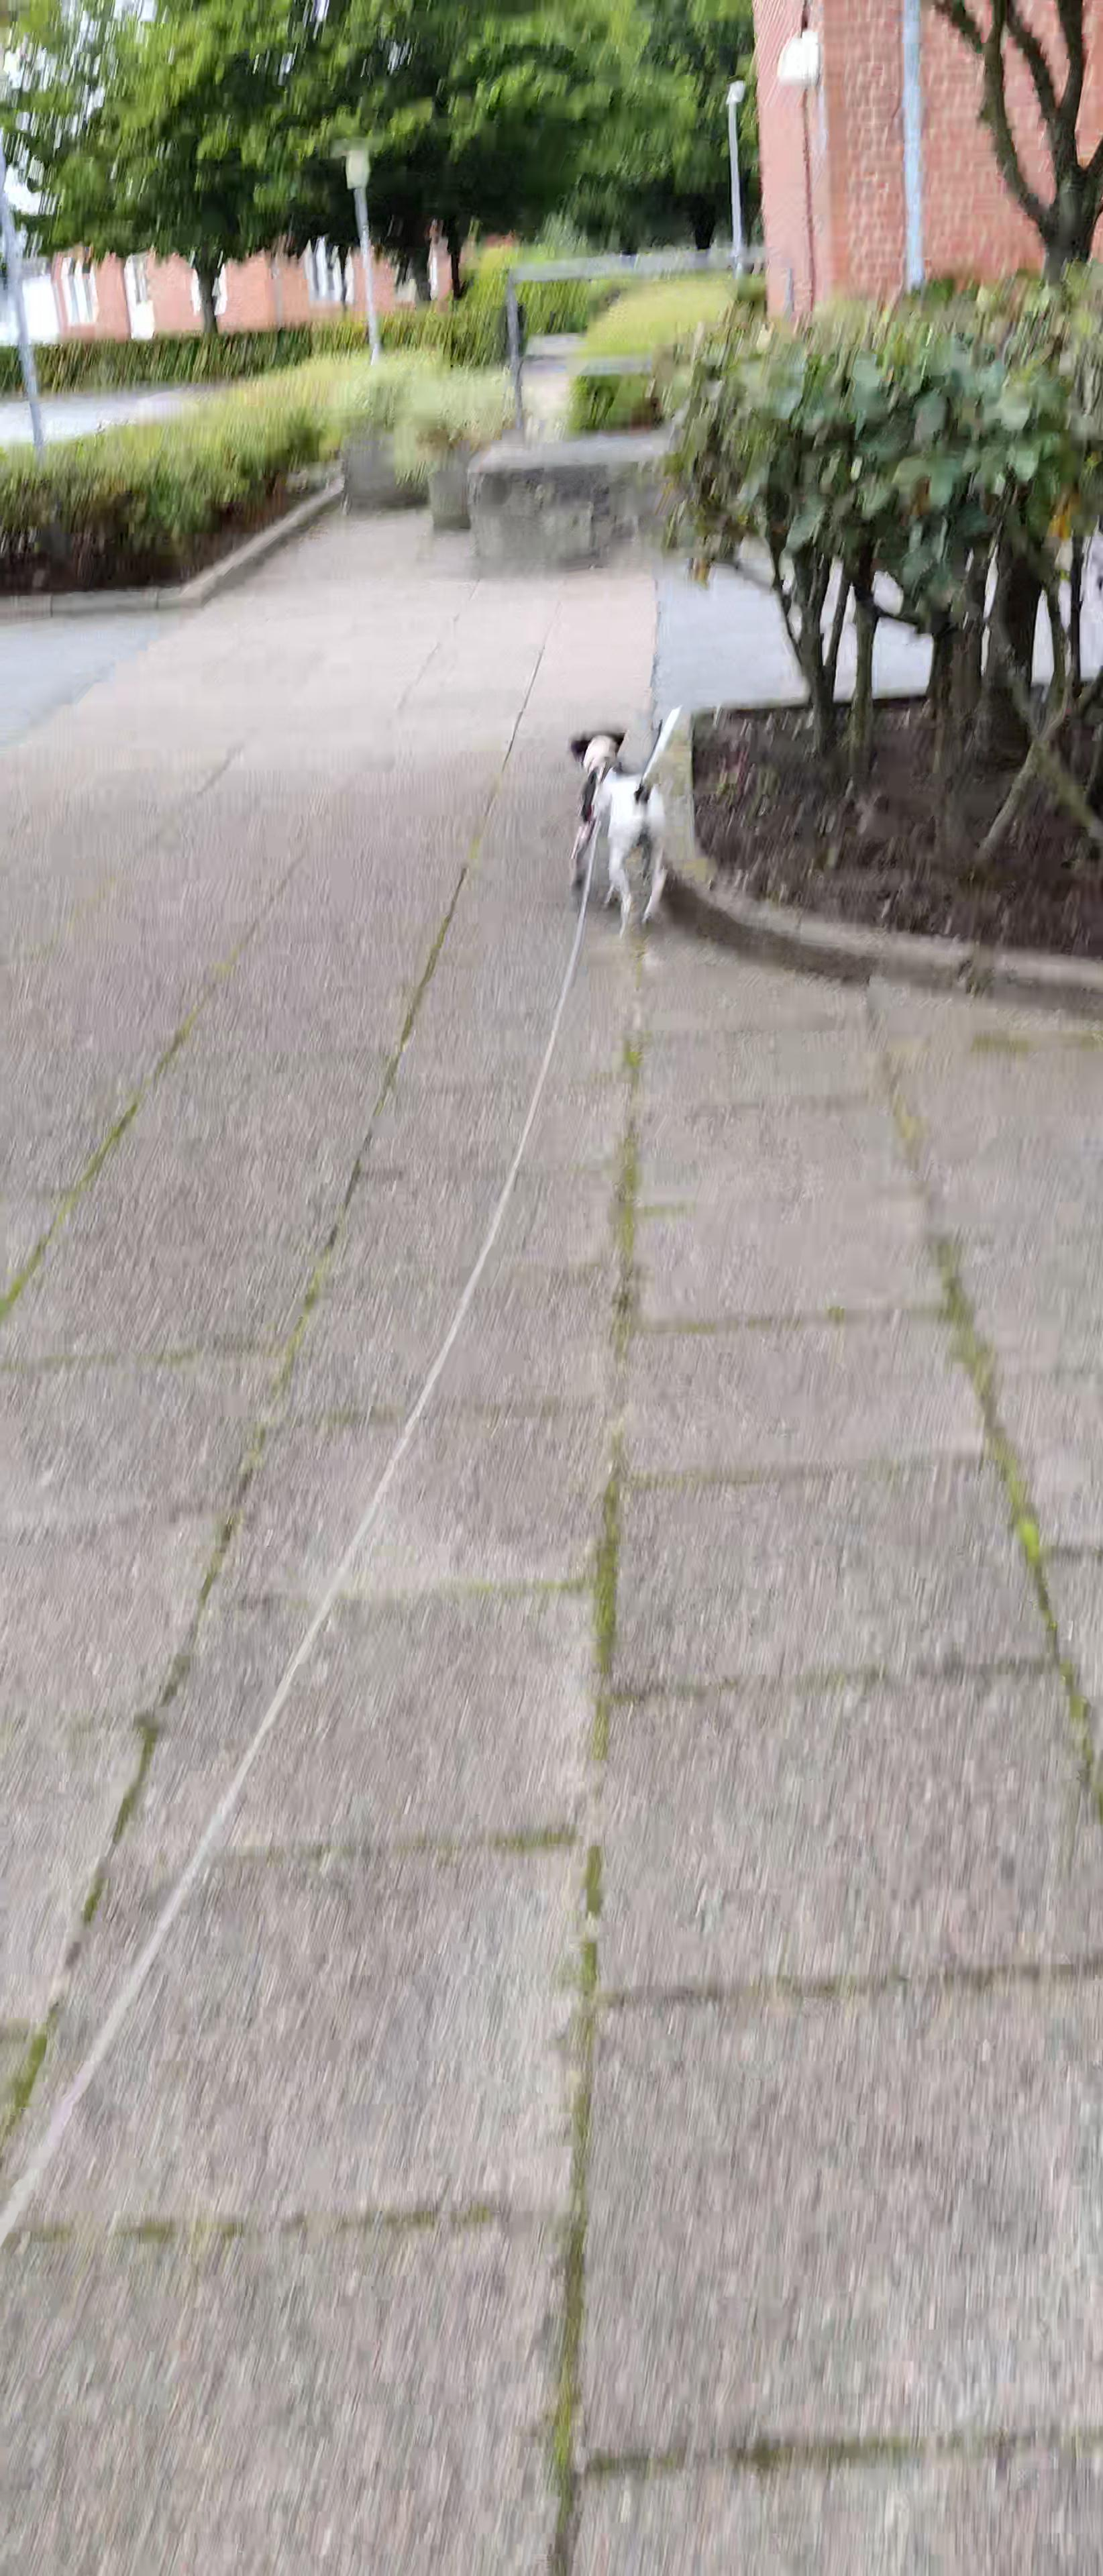Dog: (567, 698, 689, 941)
